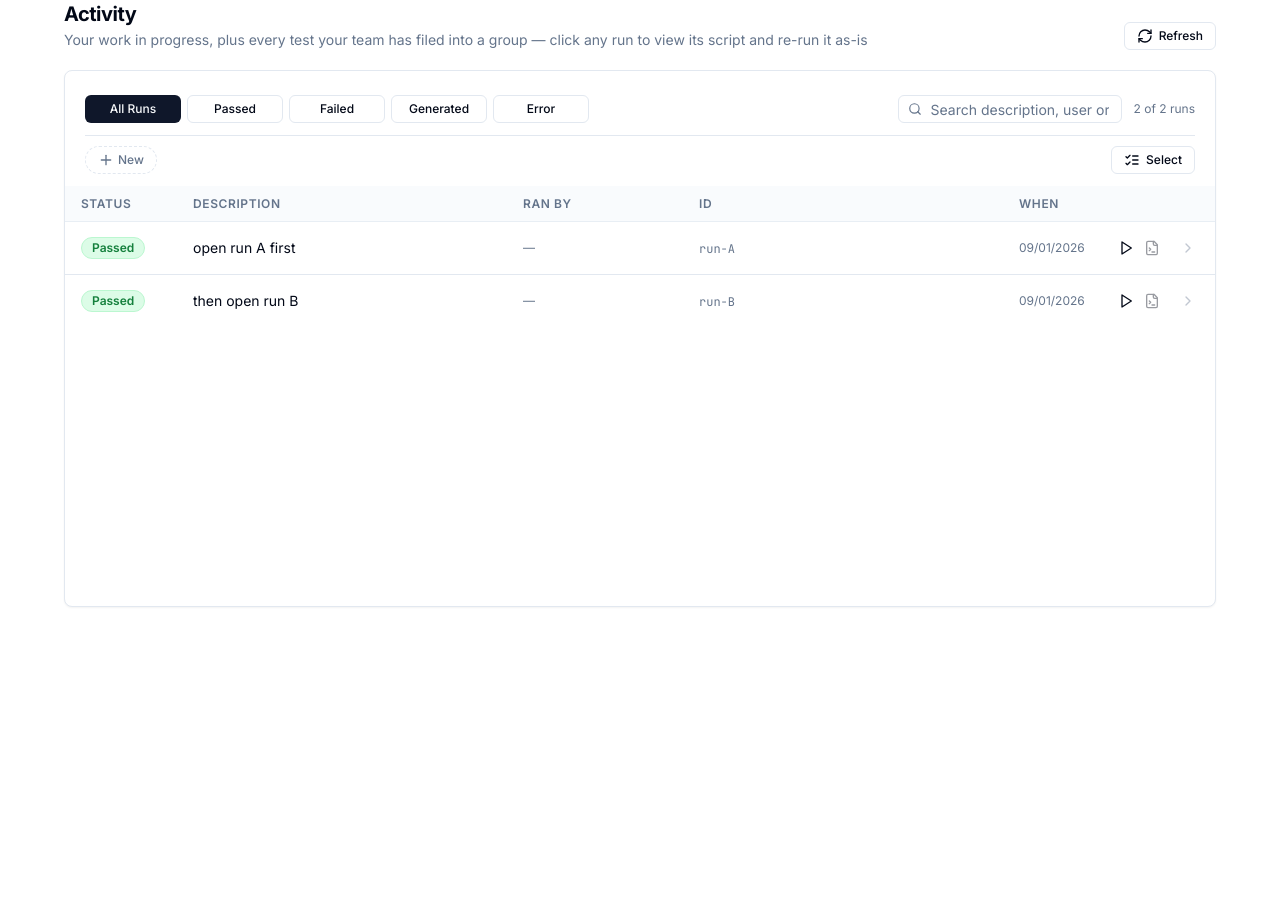
Test: HistoryPage drawer — corrections never outlive their run (the real useFetch) › does not show the last run’s corrections under a run whose corrections the server will not serve
The width and height of the screenshot is (1280, 900).
Click the button "open run A first" at (244, 248), box [193,238,296,258]
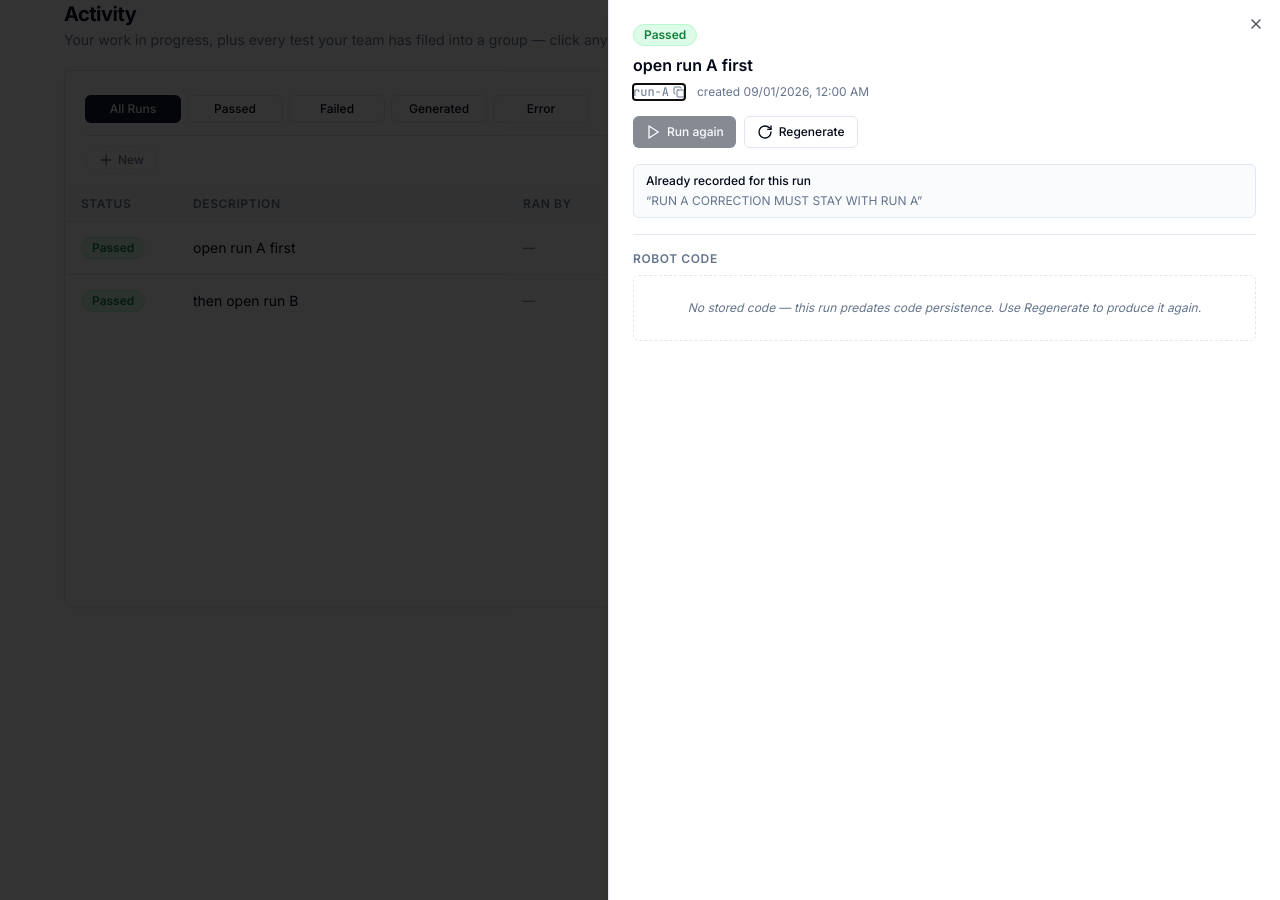
Result: the list item "“RUN A CORRECTION MUST STAY WITH RUN A”" is shown at [646,193,922,208]
Click the button named "Close" at (1256, 24), box [1248,16,1264,32]
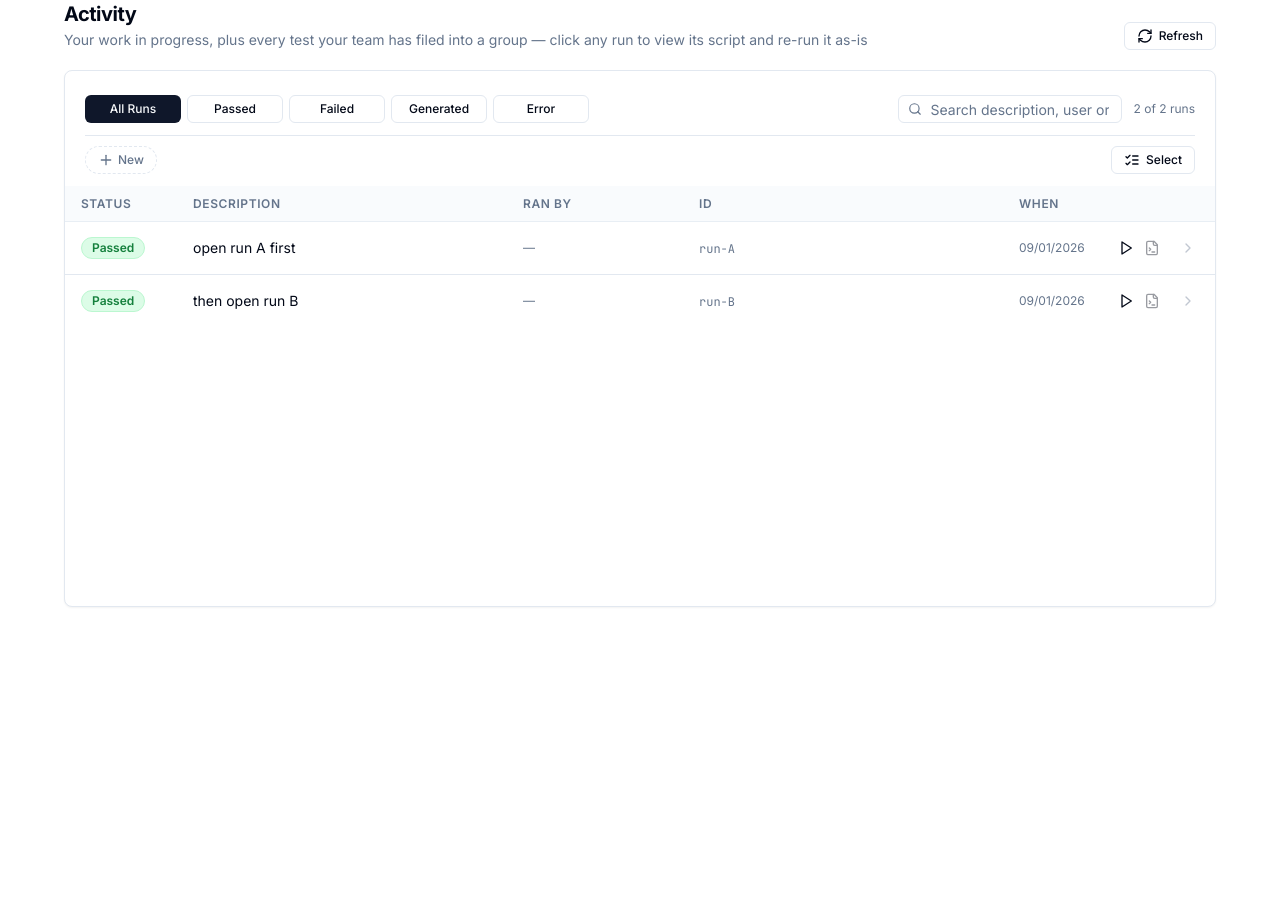
Result: the dialog is gone
Click the button "then open run B" at (246, 301), box [193,291,298,311]
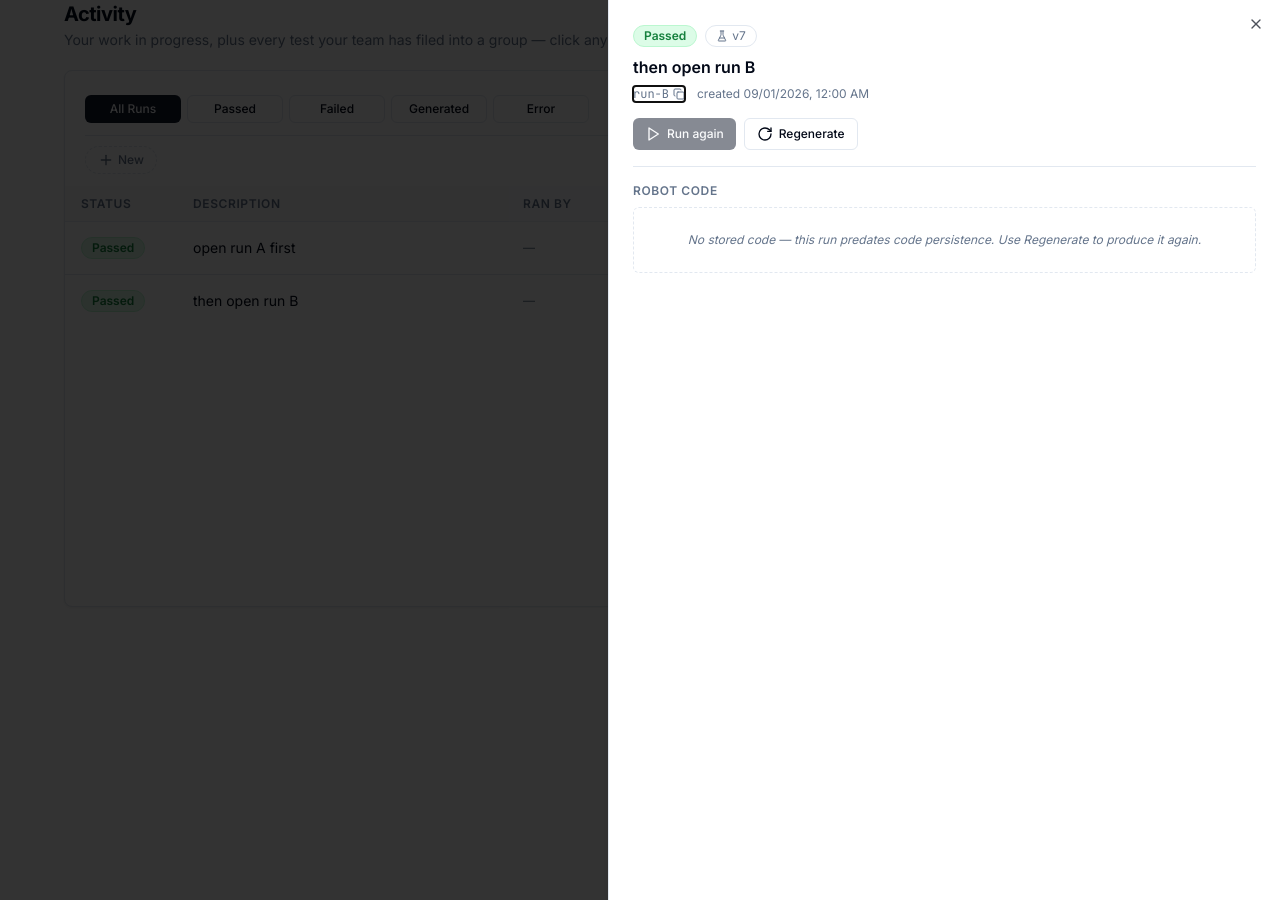
Expected: the list item "RUN A CORRECTION MUST STAY WITH RUN A" is not shown
Result: the element titled "Test: then open run B — Ran version 7" is shown at [705,24,757,48]
